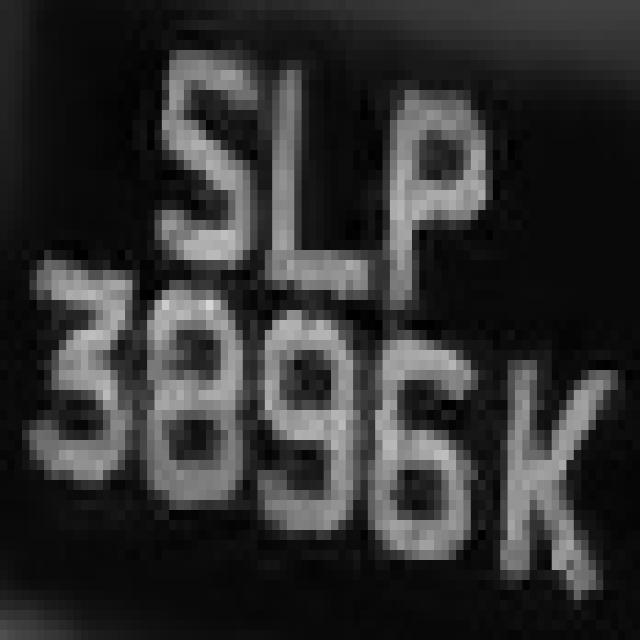3: (44, 240, 147, 510)
6: (353, 310, 471, 610)
8: (132, 220, 243, 540)
9: (258, 280, 382, 560)
K: (464, 330, 610, 630)
L: (258, 50, 382, 360)
P: (353, 40, 493, 310)
S: (132, 20, 265, 290)
